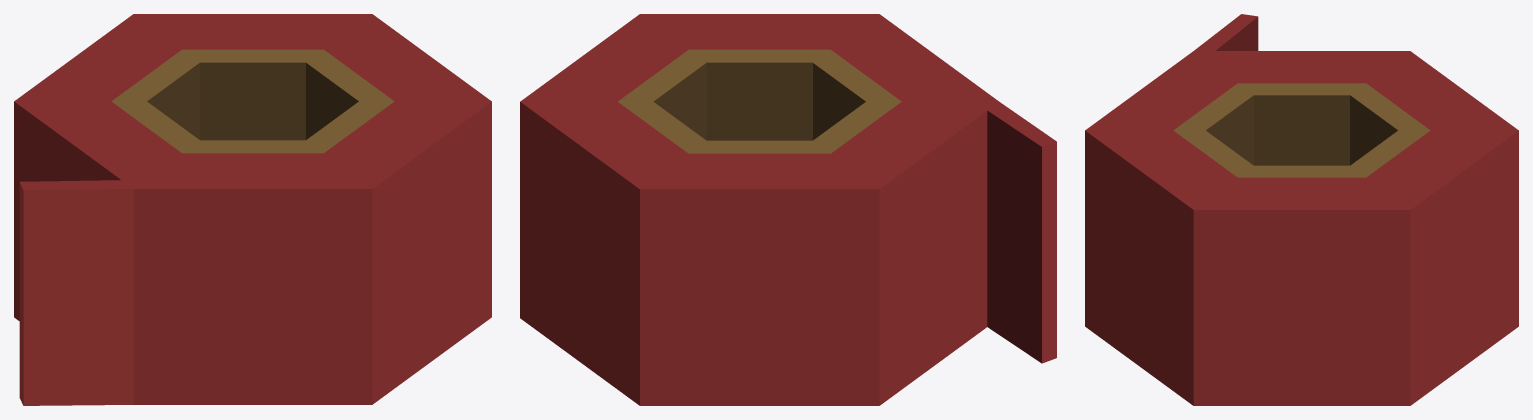
File: AI_Item_Tape.fbx
The picture shows the model from 3 angles, left to right: view 1: azimuth 30°, elevation 25°; view 2: azimuth 150°, elevation 25°; view 3: azimuth 270°, elevation 25°; orthographic projection. The views are drawn at different scales.
Parts seen in each view (by area): view 1: AI_Item_Tape; view 2: AI_Item_Tape; view 3: AI_Item_Tape.
Boxes of the visible parts, <box> form: AI_Item_Tape: <box>14,14,491,405</box>; AI_Item_Tape: <box>520,14,1056,405</box>; AI_Item_Tape: <box>1085,14,1518,405</box>.
Size of the model in its own units: 0.484 by 0.226 by 0.4531.
